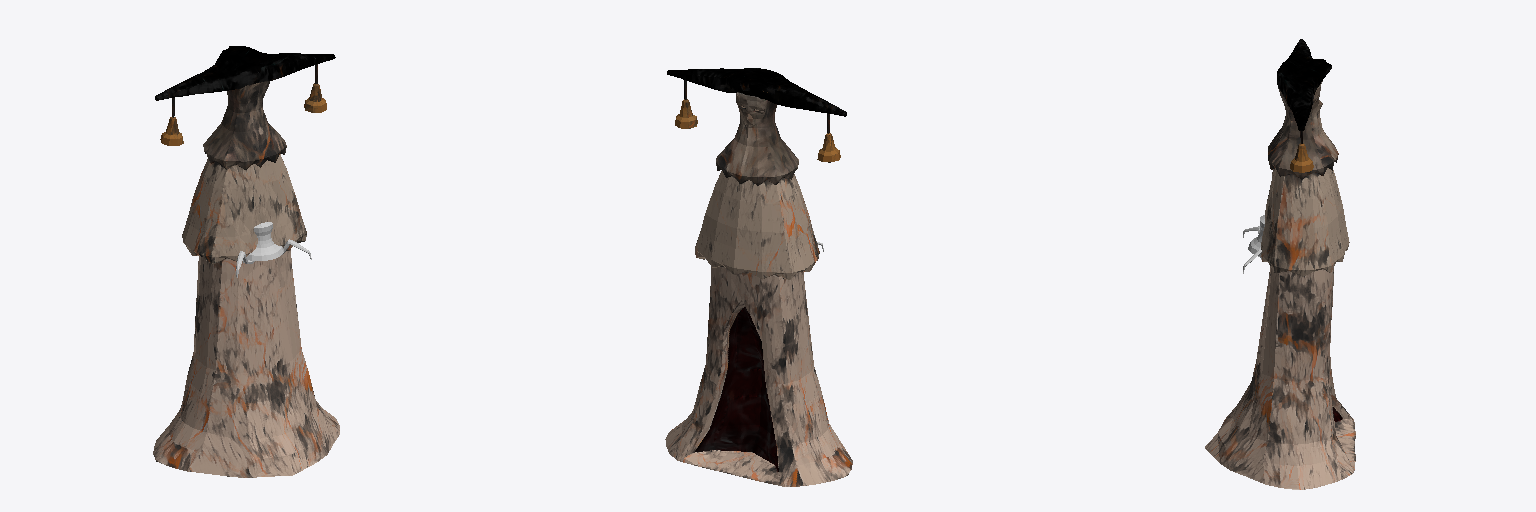
3 renders of one model, left to right at view 1: azimuth 30°, elevation 25°; view 2: azimuth 150°, elevation 25°; view 3: azimuth 270°, elevation 25°, orthographic.
Visible parts, largest first — view 1: Cube.001, ball; view 2: Cube.001; view 3: Cube.001.
Boxes of the visible parts, x1,y1,x2,y2 form: Cube.001: [153, 46, 339, 477]; ball: [236, 222, 311, 277]; Cube.001: [665, 68, 852, 486]; Cube.001: [1205, 39, 1355, 489].
Bounding box in the file's own units: 3.21 × 6.52 × 2.33.
2 materials, 1 textured.